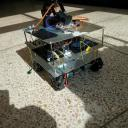cart: (23, 21, 105, 91)
